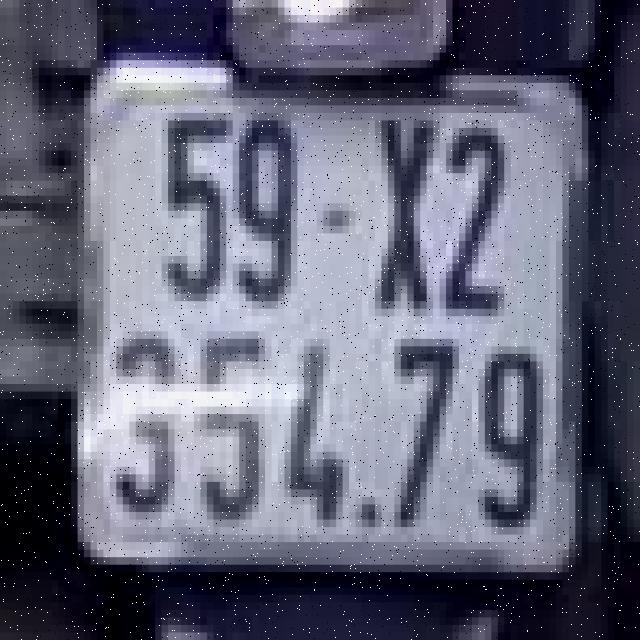2: (440, 113, 517, 324)
3: (87, 327, 178, 531)
4: (282, 320, 352, 538)
5: (184, 320, 275, 538), (152, 98, 236, 324)
7: (385, 320, 462, 538)
9: (469, 339, 546, 542), (233, 106, 310, 302)
X: (372, 106, 443, 316)
